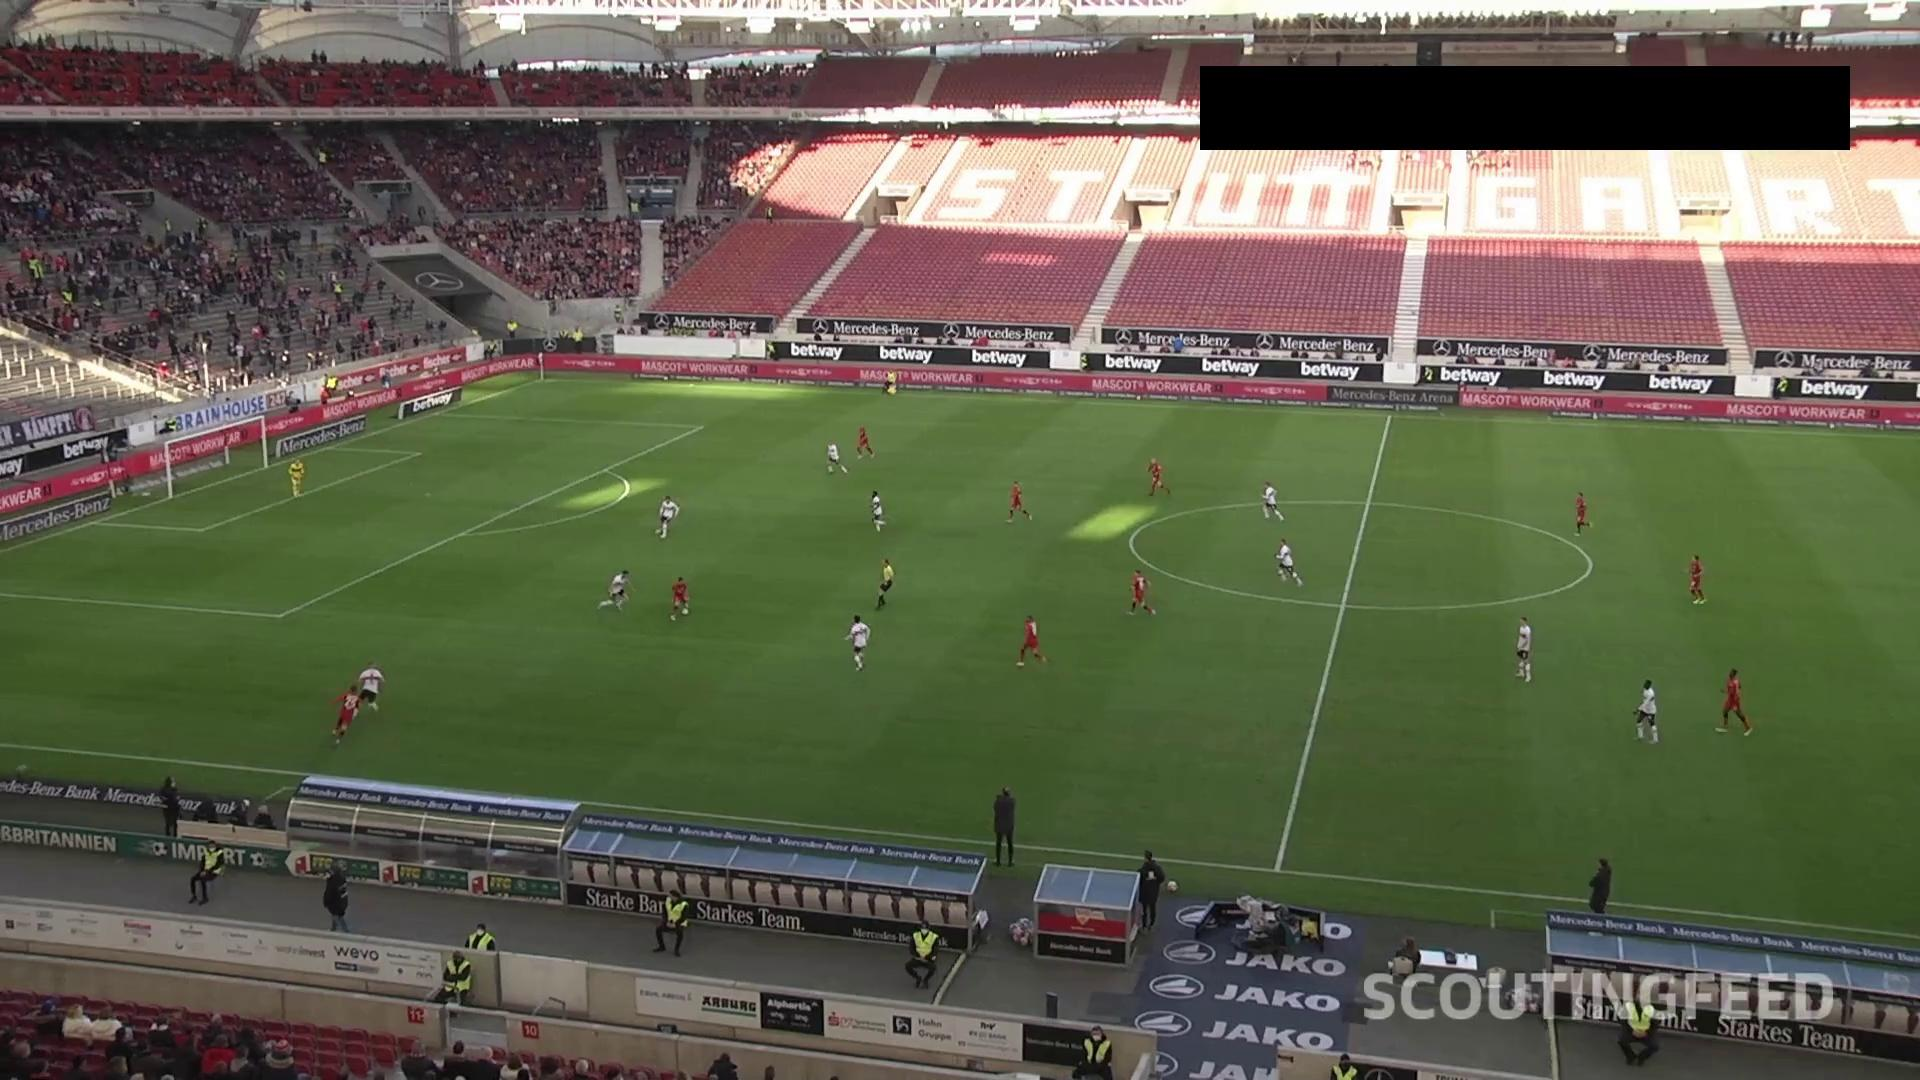Location-of-ball: (676, 605, 699, 621)
